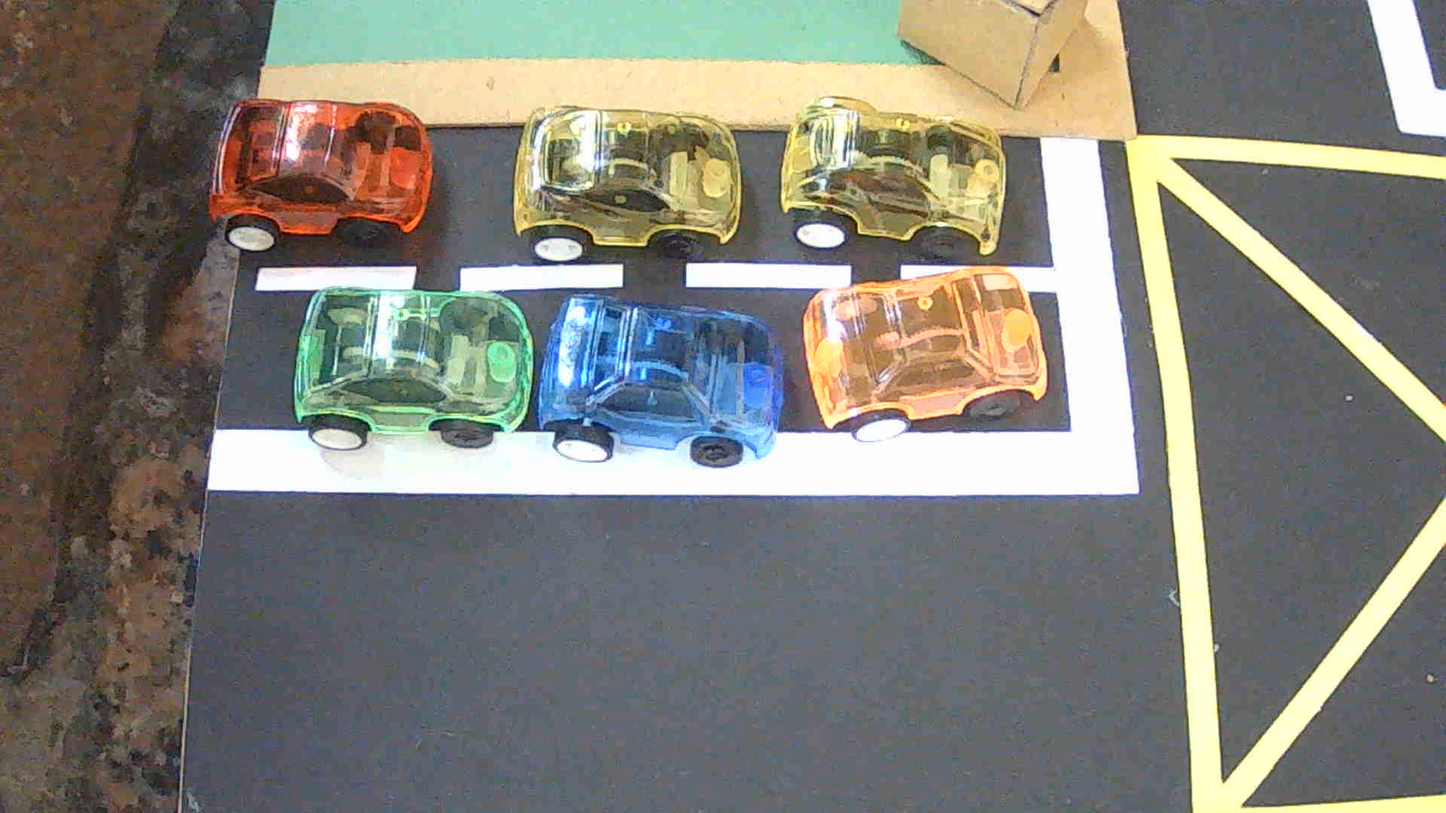Mobil biru: (538, 294, 782, 467)
Mobil hijau: (293, 287, 532, 450)
Mobil kuning: (780, 97, 1006, 257), (514, 105, 742, 262)
Mobil merah: (209, 99, 432, 251)
Mobil orange: (803, 269, 1047, 442)
